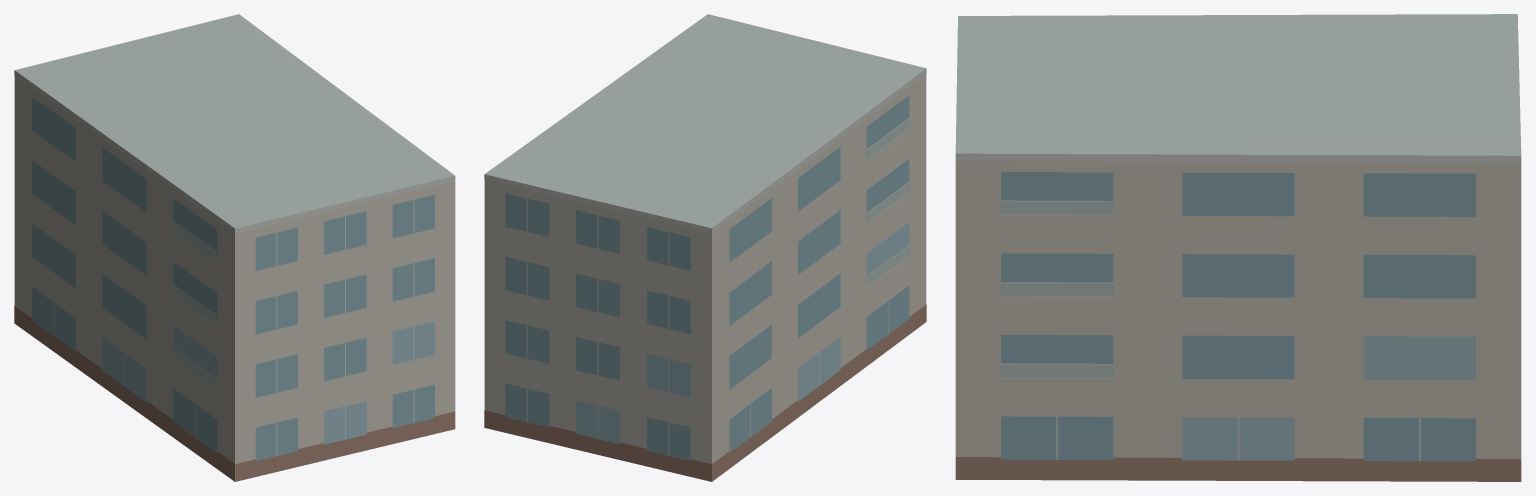
File: survey-upis-32894807.glb
The picture shows the model from 3 angles, left to right: view 1: azimuth 30°, elevation 25°; view 2: azimuth 150°, elevation 25°; view 3: azimuth 270°, elevation 25°; orthographic projection. The views are drawn at different scales.
Parts seen in each view (by area): view 1: survey-upis-32894807.tmp; view 2: survey-upis-32894807.tmp; view 3: survey-upis-32894807.tmp.
Part boxes in pixels (x1,y1,x2,y2): survey-upis-32894807.tmp: (14, 14, 455, 481); survey-upis-32894807.tmp: (484, 14, 926, 481); survey-upis-32894807.tmp: (955, 14, 1521, 481).
Bounding box in the file's own units: 10.74 × 11.5 × 18.1.
